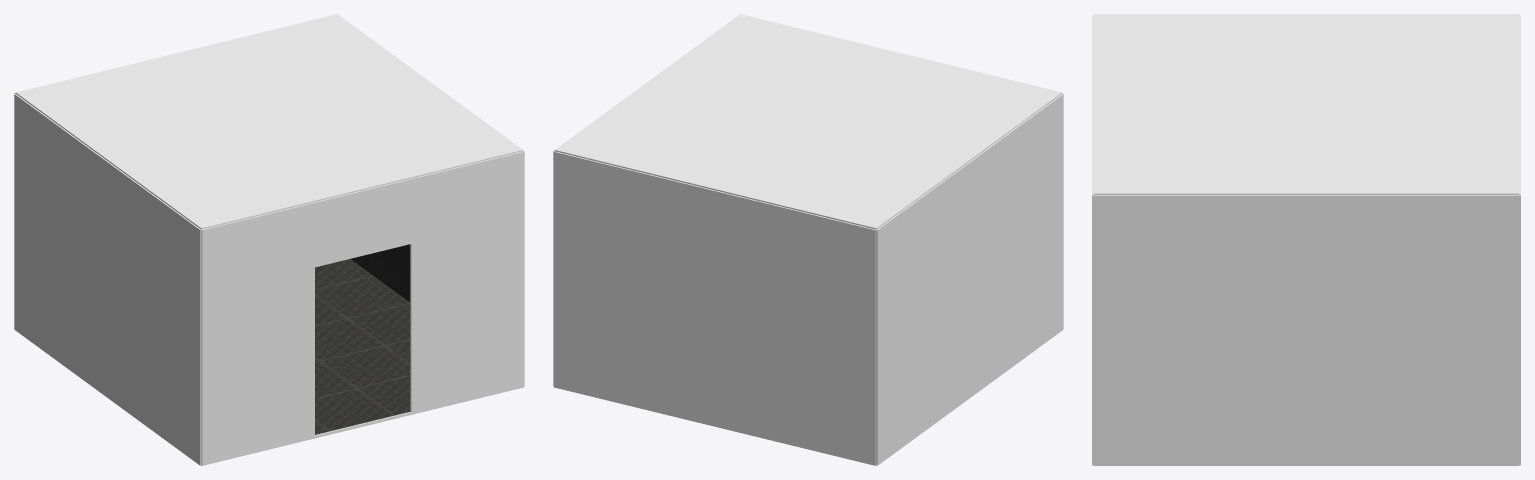
Rendered from Small Lift 2.0a.fbx.
3 views of the same model, side by side, from view 1: azimuth 30°, elevation 25°; view 2: azimuth 150°, elevation 25°; view 3: azimuth 270°, elevation 25° (orthographic). The views are drawn at different scales.
Visible parts, largest first — view 1: node_id21, node_id18, node_id12, node_id6, node_id15; view 2: node_id9, node_id18, node_id12; view 3: node_id15, node_id18, node_id9, node_id21.
Part boxes in pixels (x1,y1,x2,y2): node_id21: [201, 151, 523, 465]; node_id18: [15, 14, 523, 229]; node_id12: [14, 94, 201, 465]; node_id6: [315, 259, 410, 434]; node_id15: [350, 244, 409, 302]; node_id9: [554, 151, 876, 465]; node_id18: [554, 14, 1062, 229]; node_id12: [876, 94, 1063, 465]; node_id15: [1093, 195, 1519, 465]; node_id18: [1093, 14, 1519, 195]; node_id9: [1519, 15, 1520, 465]; node_id21: [1092, 15, 1093, 465].
Bounding box in the file's own units: 0.512 × 0.3576 × 0.512.
Materials: 14 (8 with a texture image).
